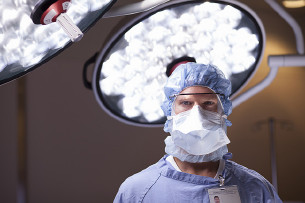face_mask: (172, 87, 219, 155)
